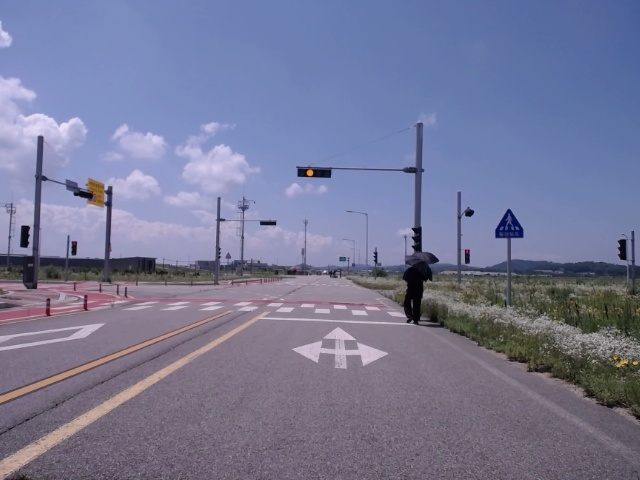orange_4: (297, 166, 331, 178)
